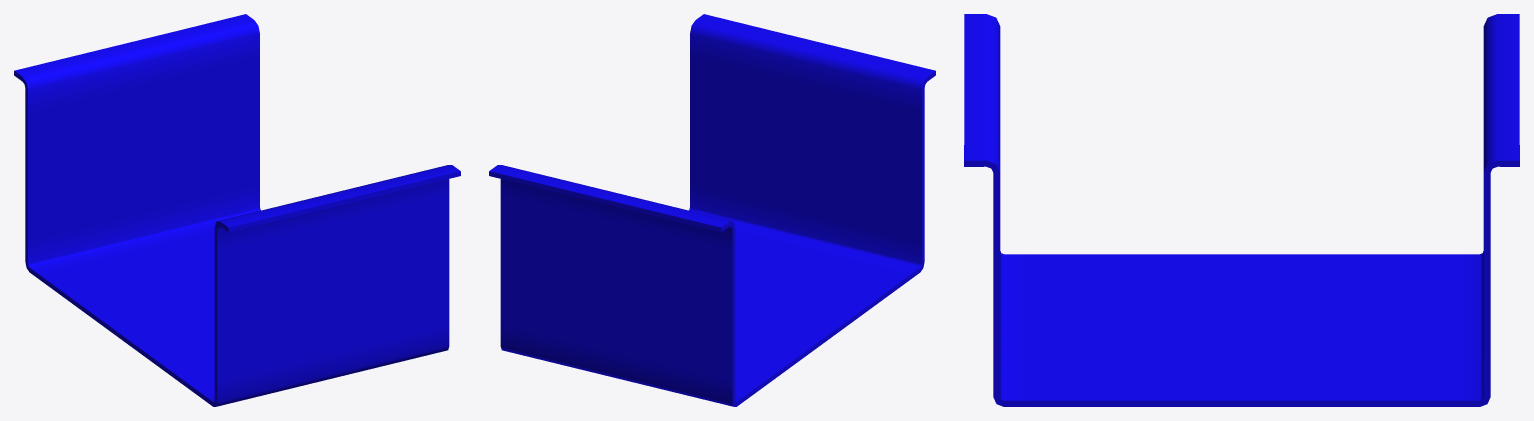
Rendered from SM_RampNoTop.FBX.
The picture shows the model from 3 angles, left to right: view 1: azimuth 30°, elevation 25°; view 2: azimuth 150°, elevation 25°; view 3: azimuth 270°, elevation 25°; orthographic projection. The views are drawn at different scales.
Visible parts, largest first — view 1: SM_RampNoTop; view 2: SM_RampNoTop; view 3: SM_RampNoTop.
Part boxes in pixels (x1,y1,x2,y2): SM_RampNoTop: (14,14,460,406); SM_RampNoTop: (489,14,935,406); SM_RampNoTop: (964,14,1519,406).
Size of the model in its own units: 100 by 160 by 78.44.
